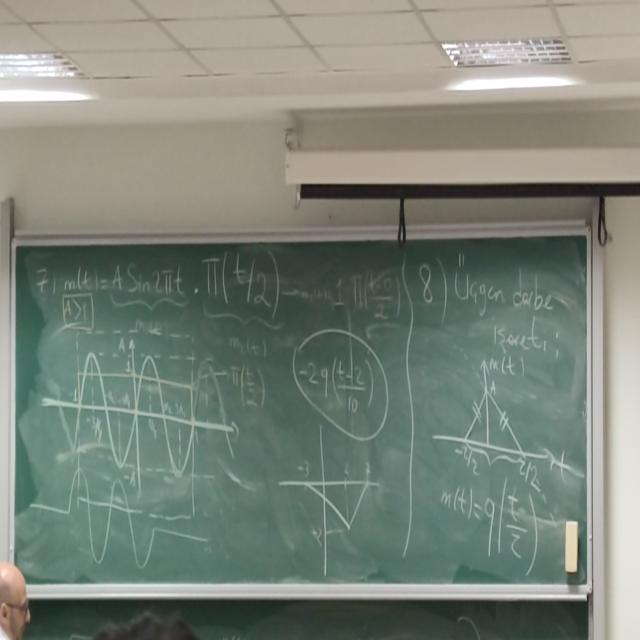image: (32, 329, 248, 489), (422, 348, 578, 498), (25, 464, 177, 573), (283, 424, 388, 578)
math: (33, 249, 290, 324), (435, 470, 538, 576), (290, 264, 404, 329), (295, 350, 380, 424)
text: (446, 250, 555, 328)
